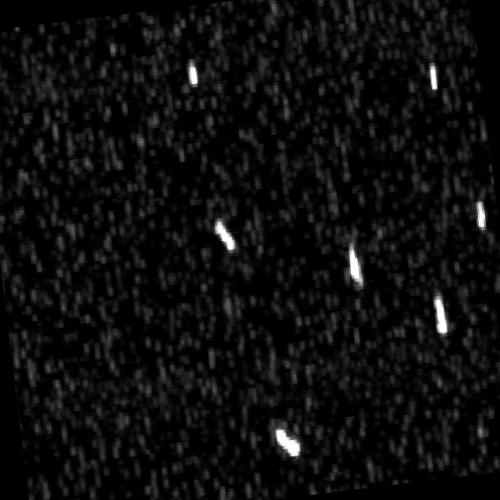ship: (212, 217, 237, 252), (276, 428, 302, 458), (347, 243, 363, 287), (433, 293, 448, 334), (475, 199, 486, 231), (428, 60, 439, 91), (187, 61, 200, 87)
